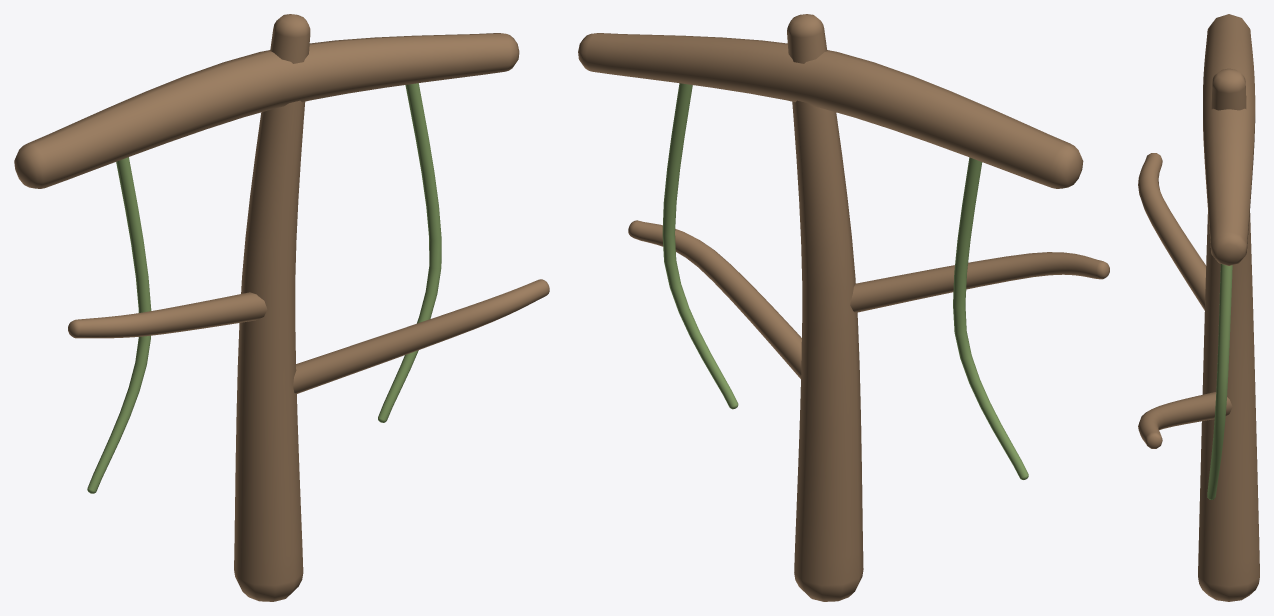
The model's file is rainforest-and-jungle-fauna-liana-hung-branch-perch-793181e5__21697.glb.
The picture shows the model from 3 angles, left to right: view 1: azimuth 30°, elevation 25°; view 2: azimuth 150°, elevation 25°; view 3: azimuth 270°, elevation 25°; orthographic projection. The views are drawn at different scales.
Parts seen in each view (by area): view 1: liana-hung-branch-perch; view 2: liana-hung-branch-perch; view 3: liana-hung-branch-perch.
Part boxes in pixels (x1,y1,x2,y2): liana-hung-branch-perch: (14, 14, 549, 601); liana-hung-branch-perch: (578, 14, 1109, 601); liana-hung-branch-perch: (1138, 14, 1259, 601).
Size of the model in its own units: 2.12 by 2.34 by 0.4798.
